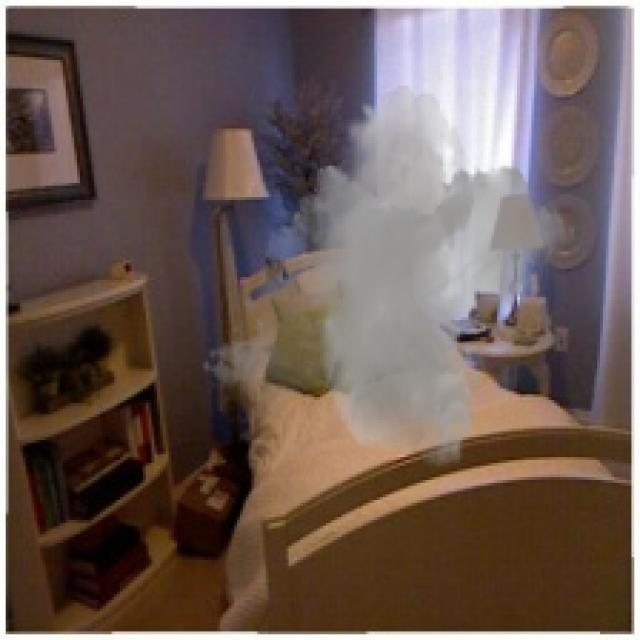Smoke: (200, 86, 577, 468)
